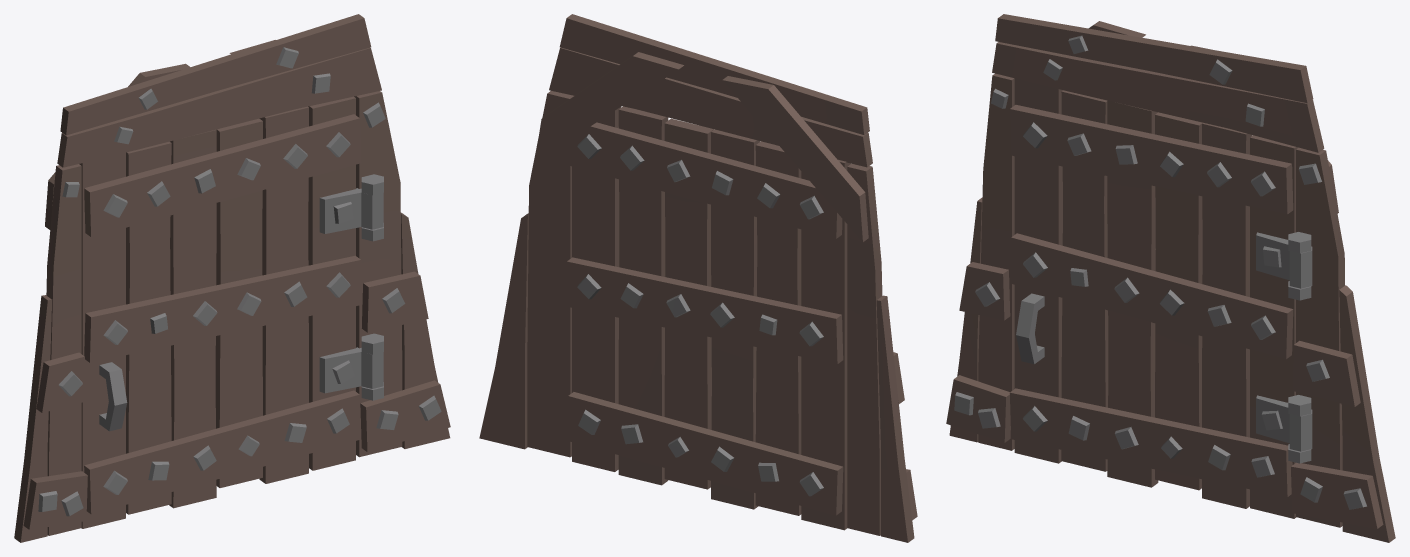
Rendered from mineDoor.fbx.
3 renders of one model, left to right at view 1: azimuth 30°, elevation 25°; view 2: azimuth 150°, elevation 25°; view 3: azimuth 330°, elevation 25°, orthographic. The views are drawn at different scales.
Visible parts, largest first — view 1: singleDoor, mineDoor; view 2: singleDoor, mineDoor; view 3: singleDoor, mineDoor.
Boxes of the visible parts, bbox=[...] form: singleDoor: bbox=[79, 96, 383, 528]; mineDoor: bbox=[14, 14, 450, 542]; singleDoor: bbox=[566, 106, 850, 530]; mineDoor: bbox=[479, 14, 917, 542]; singleDoor: bbox=[1009, 78, 1312, 518]; mineDoor: bbox=[946, 14, 1395, 542].
Bounding box in the file's own units: 3.98 × 3.93 × 0.4808.
Materials: 1 (1 with a texture image).
